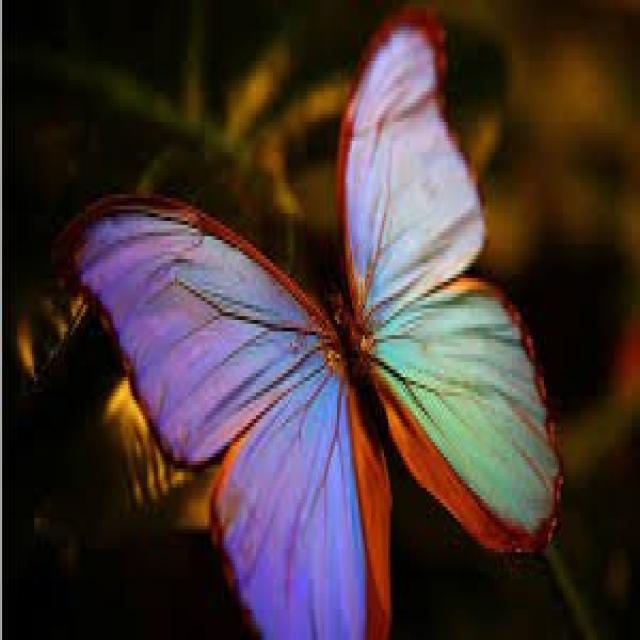butterfly: (116, 168, 498, 576)
